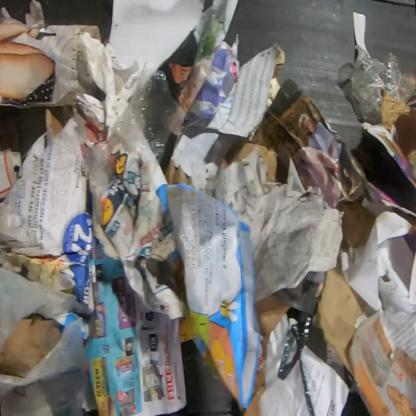cardboard: (154, 182, 263, 411), (311, 199, 377, 380), (242, 292, 290, 416), (360, 122, 415, 219), (208, 124, 279, 186), (0, 313, 63, 378), (381, 94, 416, 168), (0, 106, 22, 203), (45, 106, 74, 138)
rigid_plastic: (277, 314, 318, 415)
soft_plastic: (0, 264, 92, 415), (112, 62, 190, 185), (349, 44, 416, 124), (86, 140, 116, 193)
